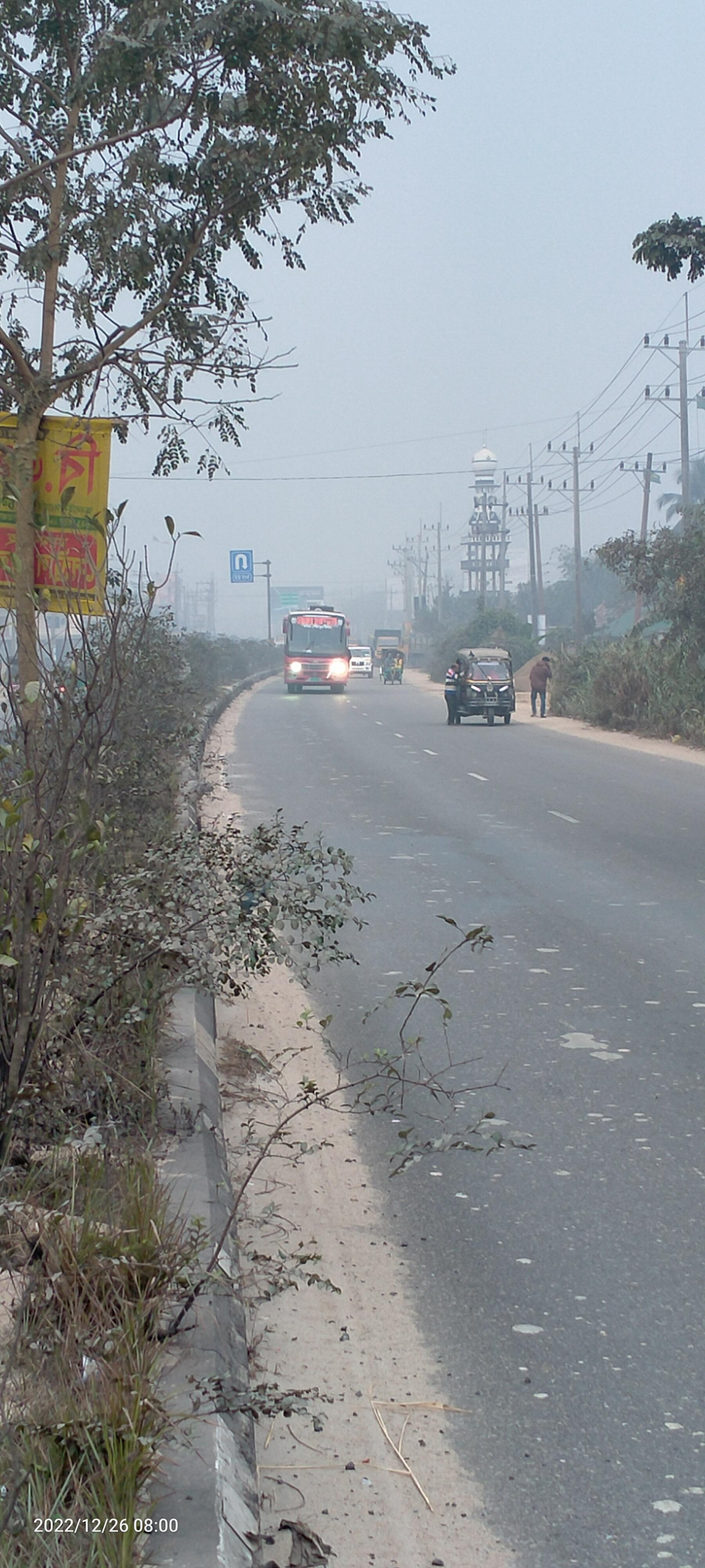Bus: (277, 603, 359, 701)
Car: (375, 643, 414, 684)
Truck: (343, 637, 378, 684), (372, 625, 406, 664)
